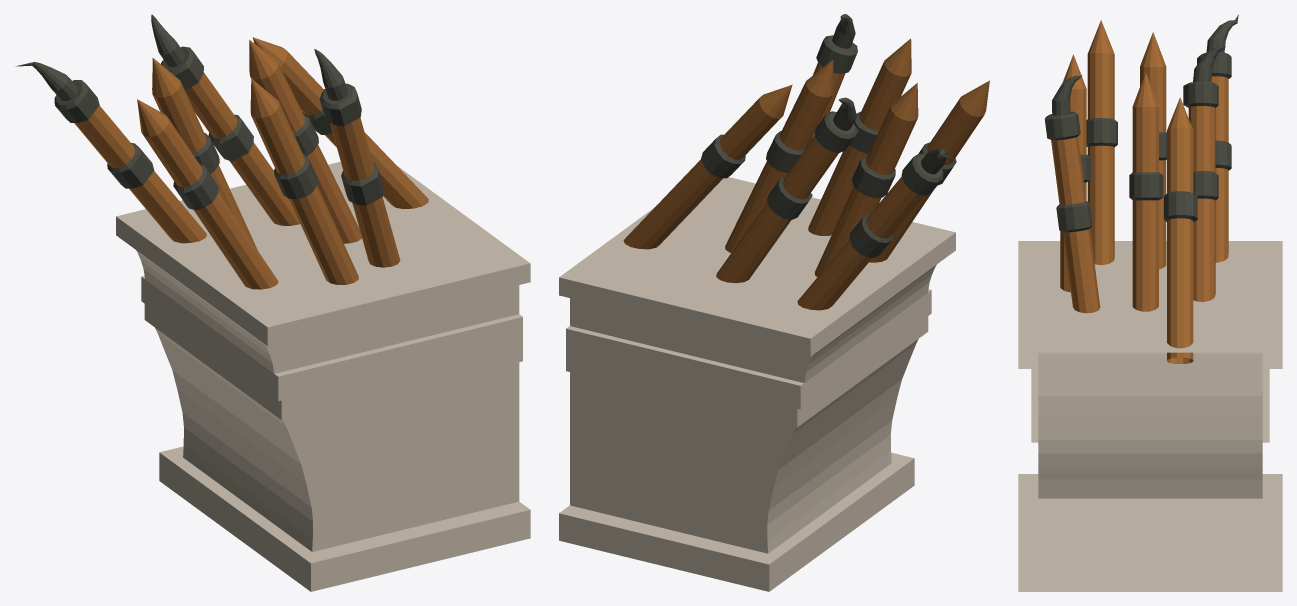
Rendered from plataforma lanças tortas ponta 2.fbx.
3 renders of one model, left to right at view 1: azimuth 30°, elevation 25°; view 2: azimuth 150°, elevation 25°; view 3: azimuth 270°, elevation 25°, orthographic. The views are drawn at different scales.
Visible parts, largest first — view 1: Cube.024, Cube.027; view 2: Cube.024, Cube.027; view 3: Cube.024, Cube.027.
Boxes of the visible parts, x1=… form: Cube.024: x1=116, y1=161, x2=530, y2=591; Cube.027: x1=16, y1=14, x2=428, y2=289; Cube.024: x1=559, y1=177, x2=955, y2=591; Cube.027: x1=623, y1=14, x2=989, y2=310; Cube.024: x1=1018, y1=241, x2=1282, y2=591; Cube.027: x1=1044, y1=14, x2=1238, y2=363.
Size of the model in its own units: 74.11 by 92.06 by 50.
